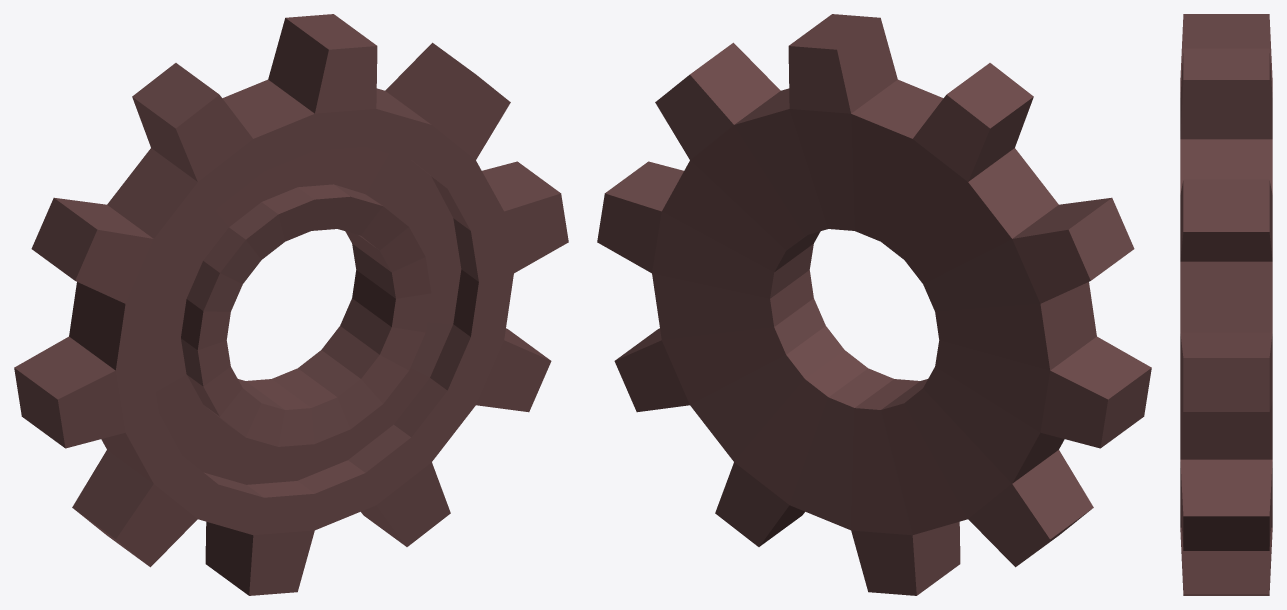
File: Gear_A.fbx
The picture shows the model from 3 angles, left to right: view 1: azimuth 30°, elevation 25°; view 2: azimuth 150°, elevation 25°; view 3: azimuth 270°, elevation 25°; orthographic projection.
Visible parts, largest first — view 1: Gear_A; view 2: Gear_A; view 3: Gear_A.
Part boxes in pixels (<box>): Gear_A: <box>14,14,568,595</box>; Gear_A: <box>597,14,1151,595</box>; Gear_A: <box>1180,14,1272,595</box>.
Bounding box in the file's own units: 3.08 × 3.08 × 0.4877.
